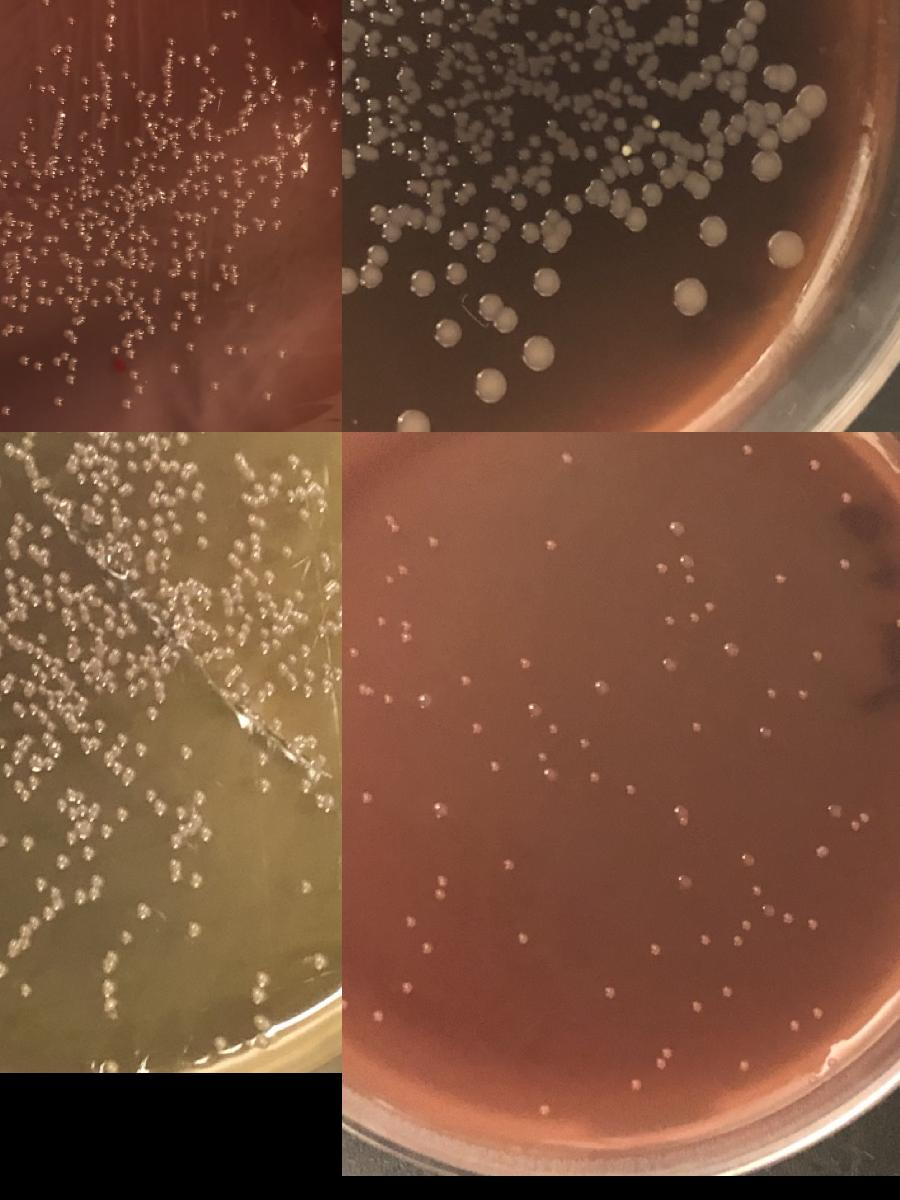assalmonicida: (724, 99, 800, 182), (564, 174, 646, 230), (104, 275, 155, 359), (448, 205, 512, 261), (721, 0, 768, 62), (503, 130, 557, 183), (388, 113, 439, 164), (522, 206, 573, 253), (28, 884, 66, 929), (22, 631, 54, 684), (94, 216, 126, 268), (477, 292, 518, 332), (670, 276, 710, 316), (766, 230, 806, 270), (369, 204, 406, 241), (28, 702, 59, 746), (522, 26, 566, 56), (472, 366, 507, 402), (54, 786, 91, 820), (520, 335, 554, 371), (696, 214, 731, 248), (796, 84, 830, 118), (152, 508, 185, 542), (186, 148, 226, 176), (390, 406, 432, 432), (604, 112, 630, 152), (760, 64, 798, 89), (157, 458, 198, 480), (74, 873, 104, 903), (680, 9, 702, 48), (50, 42, 74, 77), (124, 666, 150, 698), (450, 177, 478, 206), (410, 268, 438, 296), (436, 319, 464, 347), (443, 258, 471, 286), (534, 268, 562, 296), (11, 732, 35, 762), (50, 109, 67, 150), (728, 70, 747, 102), (61, 153, 88, 174), (342, 89, 362, 117), (11, 512, 37, 533), (256, 622, 272, 656), (51, 351, 78, 371), (66, 262, 84, 292), (88, 157, 107, 184), (218, 262, 240, 285), (12, 779, 32, 803), (342, 268, 359, 296), (130, 168, 152, 189), (190, 478, 207, 504), (204, 120, 224, 142), (198, 84, 217, 107), (3, 535, 22, 558), (131, 149, 160, 164), (342, 56, 356, 86), (362, 266, 382, 286), (422, 28, 442, 48), (452, 107, 472, 127), (498, 128, 518, 148), (510, 190, 530, 210), (536, 179, 556, 199), (582, 141, 602, 161), (628, 155, 648, 175), (644, 185, 664, 205), (648, 144, 668, 164), (16, 128, 30, 156), (110, 648, 138, 662), (369, 245, 389, 264), (422, 214, 441, 234), (552, 1, 572, 20), (30, 756, 56, 770), (148, 492, 174, 506), (445, 150, 464, 169), (482, 44, 500, 64), (706, 159, 724, 179), (166, 225, 180, 250), (123, 133, 146, 148), (230, 220, 249, 238), (363, 26, 382, 44), (64, 294, 82, 312), (354, 74, 372, 92), (354, 139, 372, 157), (366, 94, 384, 112), (703, 109, 721, 127), (24, 244, 39, 264), (260, 679, 277, 696), (0, 293, 18, 309), (278, 543, 296, 559), (122, 70, 137, 89), (102, 198, 122, 212), (169, 310, 182, 331), (19, 432, 36, 448), (36, 82, 58, 94), (137, 260, 157, 273), (438, 0, 458, 13), (256, 777, 272, 793), (260, 568, 276, 584), (296, 777, 312, 793), (298, 642, 314, 658), (300, 683, 316, 699), (64, 328, 78, 346), (126, 230, 144, 244), (156, 436, 174, 450), (23, 220, 35, 240), (24, 195, 40, 210), (148, 161, 168, 173), (255, 750, 270, 766), (255, 970, 270, 986), (291, 587, 306, 603), (296, 507, 312, 522), (301, 665, 316, 681), (186, 121, 199, 139), (327, 114, 340, 132), (250, 988, 266, 1002), (254, 1014, 270, 1028), (324, 580, 340, 594), (34, 294, 52, 306), (151, 286, 163, 304), (77, 210, 87, 231), (192, 789, 206, 804), (78, 182, 88, 202), (0, 227, 11, 245), (180, 290, 198, 301), (1, 762, 15, 776), (2, 442, 16, 456), (2, 565, 16, 579), (21, 835, 35, 849), (34, 877, 48, 891), (39, 524, 53, 538), (40, 573, 54, 587), (56, 854, 70, 868), (57, 570, 71, 584), (64, 831, 78, 845), (76, 471, 90, 485), (82, 582, 96, 596), (94, 717, 108, 731), (100, 824, 114, 838), (103, 998, 117, 1012), (111, 760, 125, 774), (124, 458, 138, 472), (136, 518, 150, 532), (136, 904, 150, 918), (140, 458, 154, 472), (144, 787, 158, 801), (146, 706, 160, 720), (153, 476, 167, 490), (160, 660, 174, 674), (196, 508, 210, 522), (221, 8, 238, 19), (5, 582, 18, 596), (5, 608, 18, 622), (43, 601, 57, 614), (91, 493, 104, 507), (115, 732, 128, 746), (115, 808, 128, 822), (119, 932, 132, 946), (124, 439, 138, 452), (135, 745, 149, 758), (152, 678, 166, 691), (174, 484, 187, 498), (201, 827, 214, 841), (84, 233, 93, 252), (0, 678, 13, 691), (32, 63, 46, 75), (166, 266, 180, 278), (11, 700, 25, 712), (18, 984, 32, 996), (178, 746, 192, 758), (188, 921, 200, 935), (82, 456, 95, 468), (82, 846, 95, 858), (105, 681, 118, 693), (115, 626, 128, 638), (119, 484, 132, 496), (197, 536, 210, 548), (175, 432, 189, 443), (0, 834, 8, 853), (24, 113, 36, 125), (56, 93, 68, 105), (79, 73, 91, 85), (79, 144, 91, 156), (326, 76, 338, 88), (28, 776, 40, 788), (78, 695, 90, 707), (90, 737, 102, 749), (92, 682, 104, 694), (94, 624, 106, 636), (104, 667, 116, 679), (117, 599, 129, 611), (127, 567, 139, 579), (131, 534, 143, 546), (144, 642, 156, 654), (0, 736, 8, 750), (86, 432, 100, 437)
pdpiscicida: (382, 562, 410, 586), (847, 809, 873, 834), (652, 1047, 674, 1072), (432, 872, 450, 902), (357, 785, 379, 807), (394, 977, 416, 999), (402, 910, 424, 932), (414, 936, 436, 958), (428, 797, 450, 818), (398, 618, 414, 642), (542, 766, 560, 780), (688, 721, 706, 735), (730, 935, 748, 949), (816, 844, 834, 858), (457, 672, 474, 686), (486, 761, 503, 775), (501, 856, 518, 870), (559, 450, 576, 464), (747, 883, 764, 897), (790, 1020, 807, 1034), (826, 803, 844, 816), (385, 519, 400, 534), (370, 1009, 386, 1023), (380, 695, 396, 709), (414, 694, 430, 708), (516, 930, 532, 944), (536, 1104, 552, 1118), (600, 986, 616, 1000), (630, 1078, 646, 1092), (676, 552, 692, 566), (702, 599, 718, 613), (724, 641, 740, 655), (780, 910, 796, 924), (810, 647, 826, 661), (646, 943, 663, 956), (542, 538, 560, 550), (738, 444, 756, 456), (794, 688, 812, 700), (346, 645, 361, 659), (471, 718, 486, 732), (544, 722, 559, 736), (654, 560, 669, 574), (683, 572, 698, 586), (697, 933, 712, 947), (721, 985, 736, 999), (775, 571, 790, 585), (807, 457, 822, 471), (372, 613, 388, 626), (678, 874, 694, 887), (576, 736, 593, 748), (687, 612, 704, 624), (761, 688, 778, 700), (838, 490, 855, 502), (528, 700, 542, 714), (588, 769, 602, 783), (670, 520, 684, 534), (738, 1059, 752, 1073), (812, 1007, 826, 1021), (838, 556, 852, 570), (535, 751, 550, 764), (663, 659, 678, 672), (761, 902, 776, 915), (594, 680, 610, 692), (662, 614, 678, 626), (738, 852, 754, 864), (518, 656, 532, 669), (624, 782, 638, 795), (692, 999, 706, 1012), (759, 726, 774, 738), (807, 918, 822, 930), (428, 536, 442, 548), (674, 806, 688, 818), (738, 918, 752, 930), (893, 617, 900, 631), (342, 996, 349, 1009)
